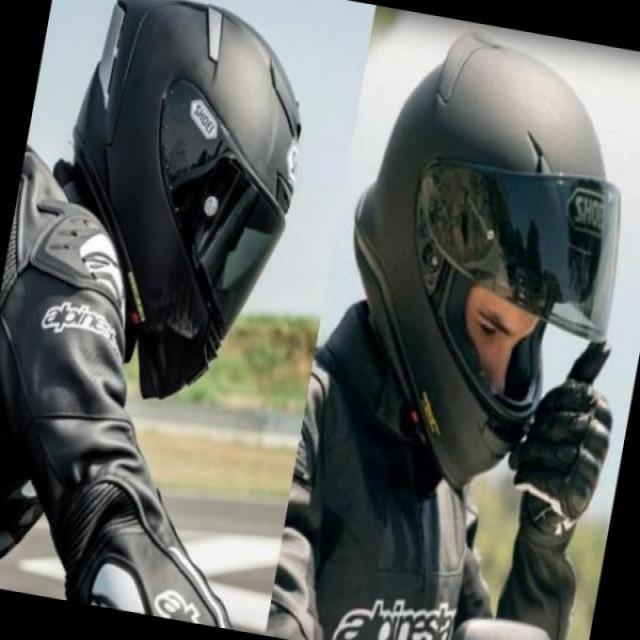Helmet: (374, 19, 605, 464), (77, 0, 292, 387)
